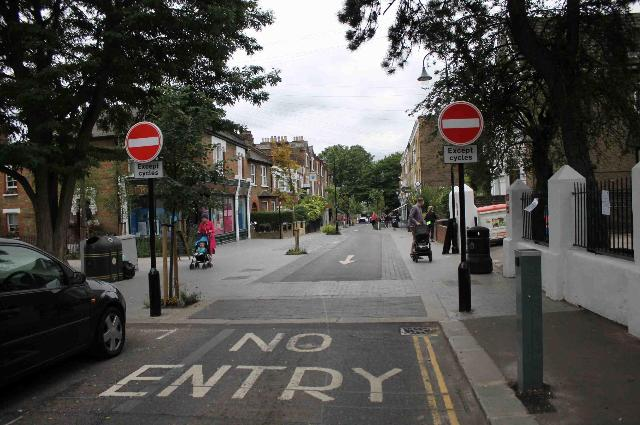B2: (436, 100, 484, 146), (125, 120, 164, 164)
